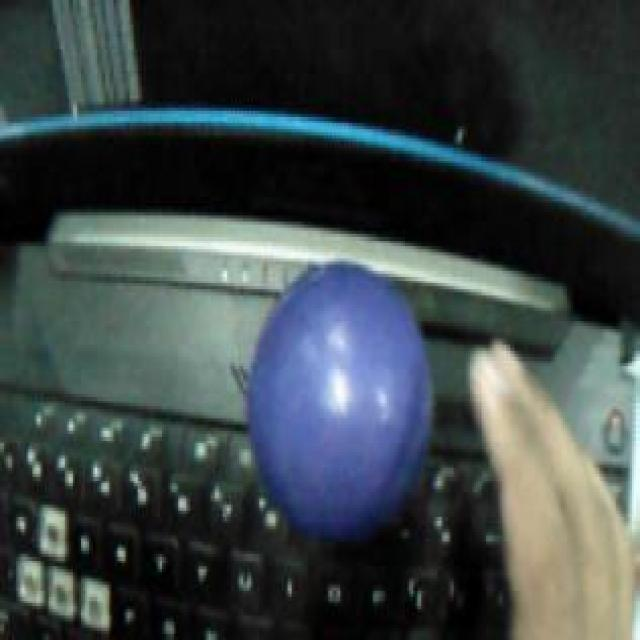BallPurple: (250, 260, 433, 540)
